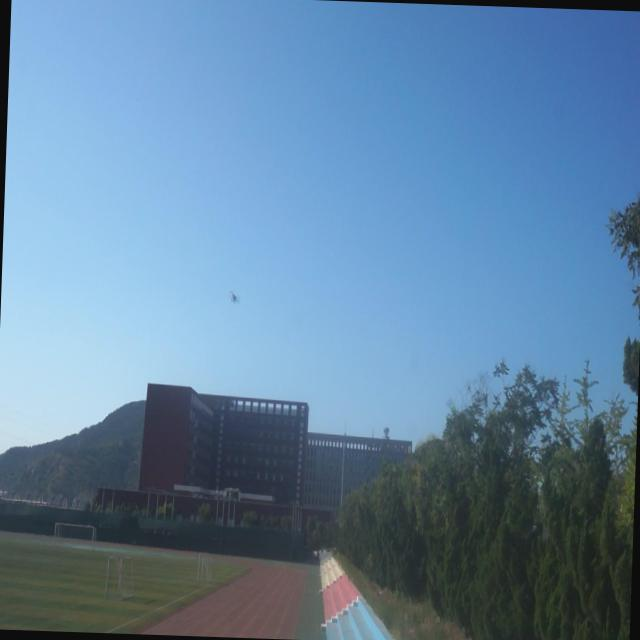drone: (226, 286, 243, 307)
